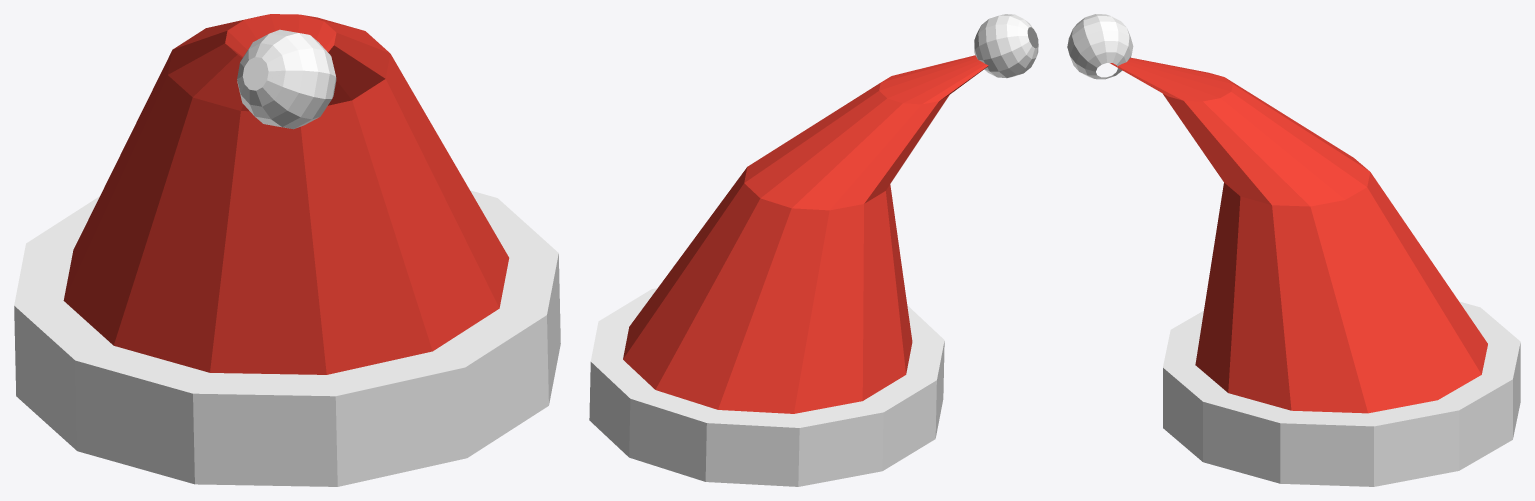
The model's file is santa_hat.glb.
The picture shows the model from 3 angles, left to right: view 1: azimuth 30°, elevation 25°; view 2: azimuth 150°, elevation 25°; view 3: azimuth 270°, elevation 25°; orthographic projection. The views are drawn at different scales.
Parts seen in each view (by area): view 1: group1929500622, group1488728730, group907954696; view 2: group1929500622, group1488728730, group907954696; view 3: group1929500622, group1488728730, group907954696.
Part boxes in pixels (box(x1,y1,x2,y2)): group1929500622: box(63, 14, 509, 374); group1488728730: box(14, 190, 560, 486); group907954696: box(237, 29, 336, 129); group1929500622: box(623, 55, 988, 413); group1488728730: box(589, 288, 944, 486); group907954696: box(974, 14, 1038, 78); group1929500622: box(1110, 57, 1487, 413); group1488728730: box(1163, 301, 1520, 486); group907954696: box(1067, 14, 1133, 79).
Size of the model in its own units: 0.1087 by 0.1147 by 0.1372.
